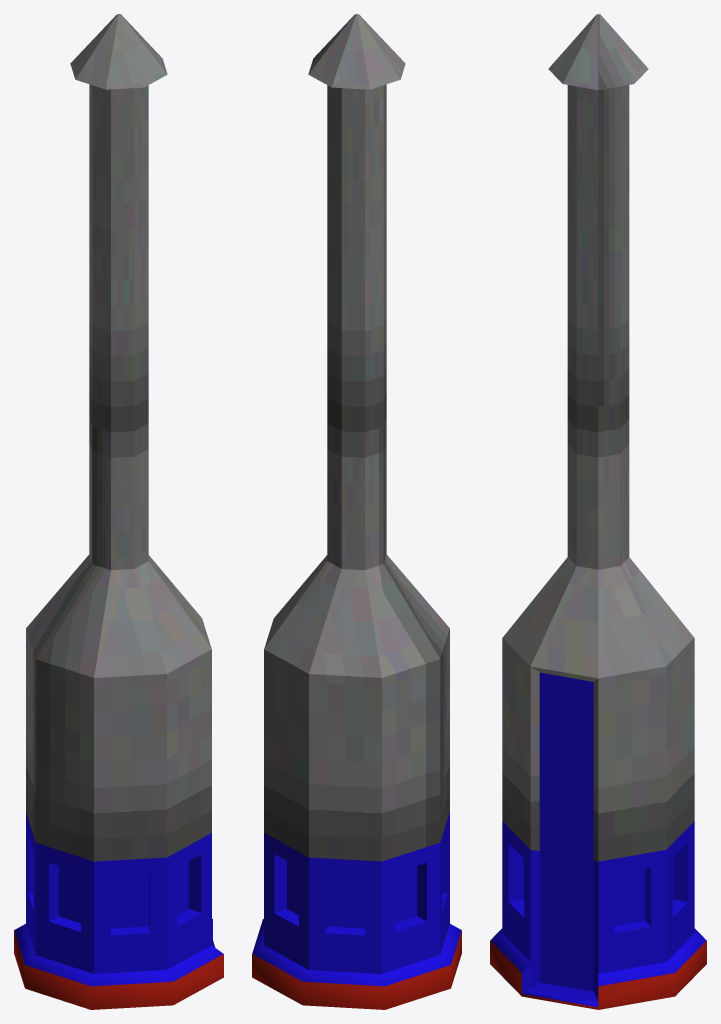
File: GreenManCross.fbx
3 views of the same model, side by side, from view 1: azimuth 30°, elevation 25°; view 2: azimuth 150°, elevation 25°; view 3: azimuth 270°, elevation 25° (orthographic).
Parts seen in each view (by area): view 1: Cylinder001; view 2: Cylinder001; view 3: Cylinder001.
Boxes of the visible parts, x1,y1,x2,y2 form: Cylinder001: (14,14,223,1009); Cylinder001: (252,14,461,1009); Cylinder001: (490,14,706,1009).
Size of the model in its own units: 14.7 by 71.05 by 14.7.
